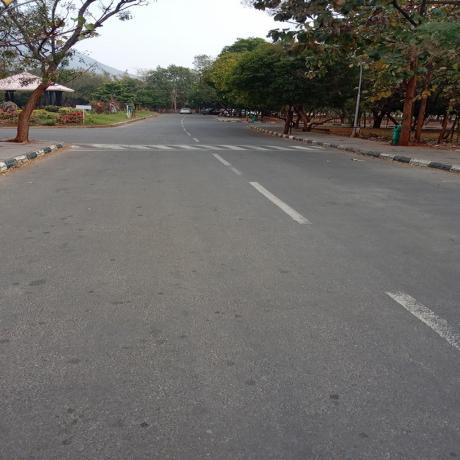Speed Bump: (57, 142, 326, 151)
